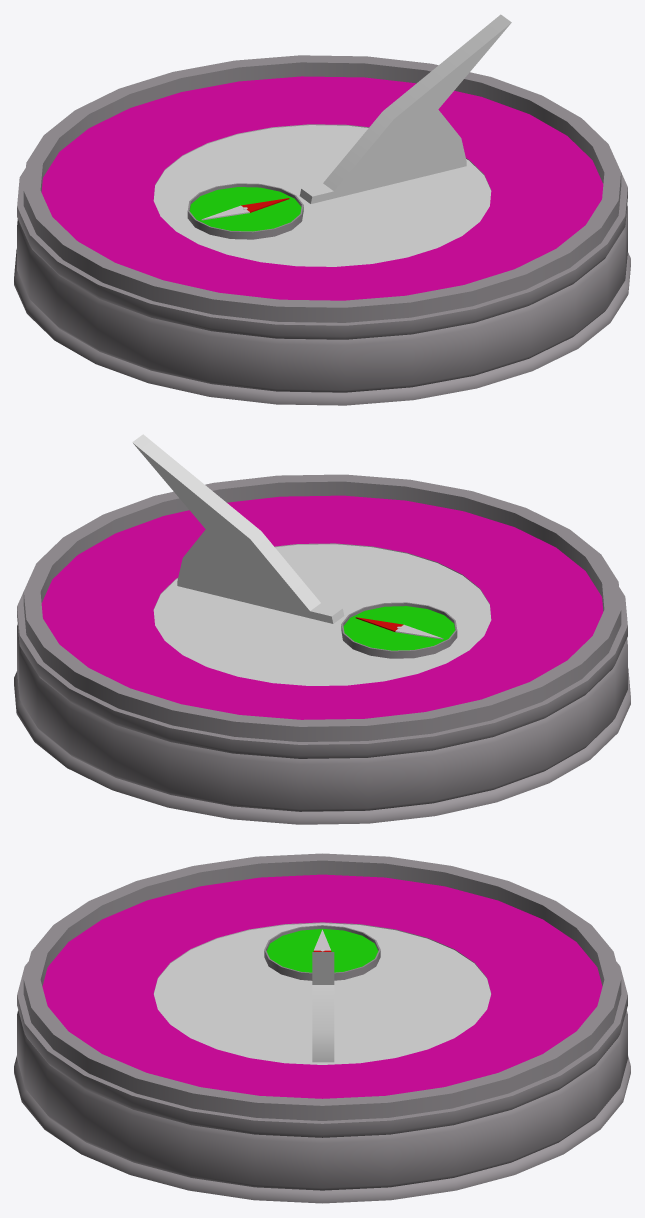
The model's file is SM_PocketSundial.fbx.
3 views of the same model, one above another, from view 1: azimuth 30°, elevation 25°; view 2: azimuth 150°, elevation 25°; view 3: azimuth 270°, elevation 25° (orthographic).
Parts seen in each view (by area): view 1: Cylinder; view 2: Cylinder; view 3: Cylinder.
Boxes of the visible parts, x1,y1,x2,y2 form: Cylinder: (14,14,630,405); Cylinder: (14,434,630,824); Cylinder: (14,853,630,1203).
Size of the model in its own units: 46.93 by 17.7 by 46.93.
